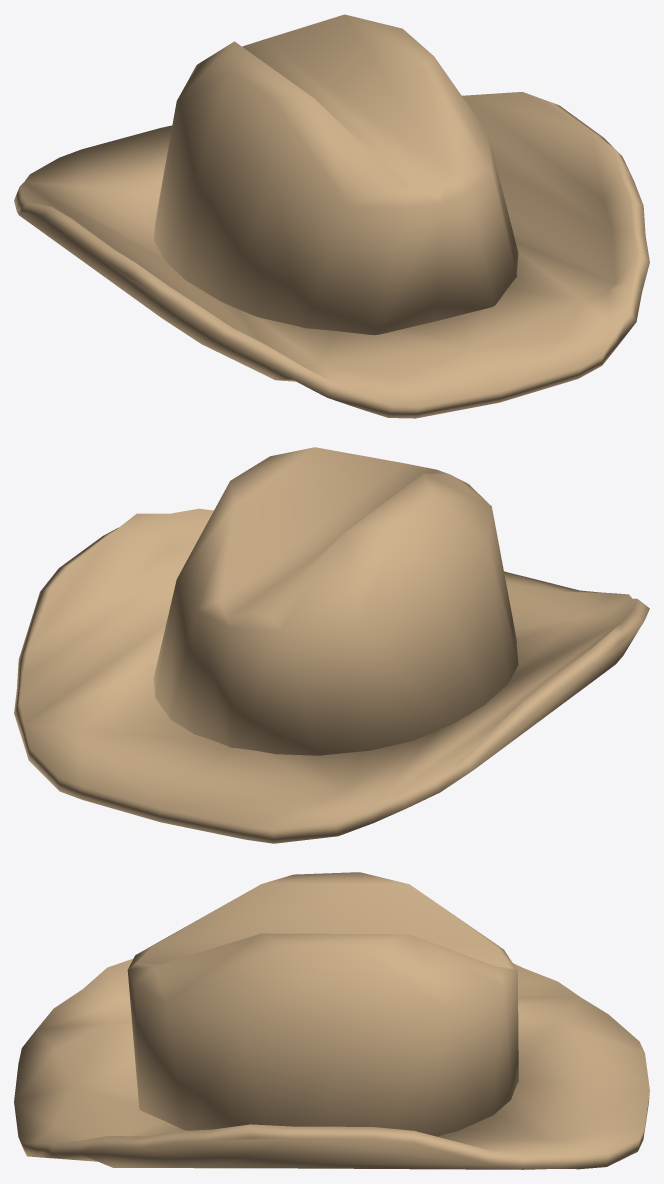
Rendered from cowboy.fbx.
3 views of the same model, one above another, from view 1: azimuth 30°, elevation 25°; view 2: azimuth 150°, elevation 25°; view 3: azimuth 270°, elevation 25° (orthographic). The views are drawn at different scales.
Visible parts, largest first — view 1: cowboy; view 2: cowboy; view 3: cowboy.
Part boxes in pixels (bbox=[...]): cowboy: bbox=[14, 14, 649, 418]; cowboy: bbox=[14, 447, 649, 843]; cowboy: bbox=[14, 872, 649, 1169].
Size of the model in its own units: 225 by 94.94 by 266.
